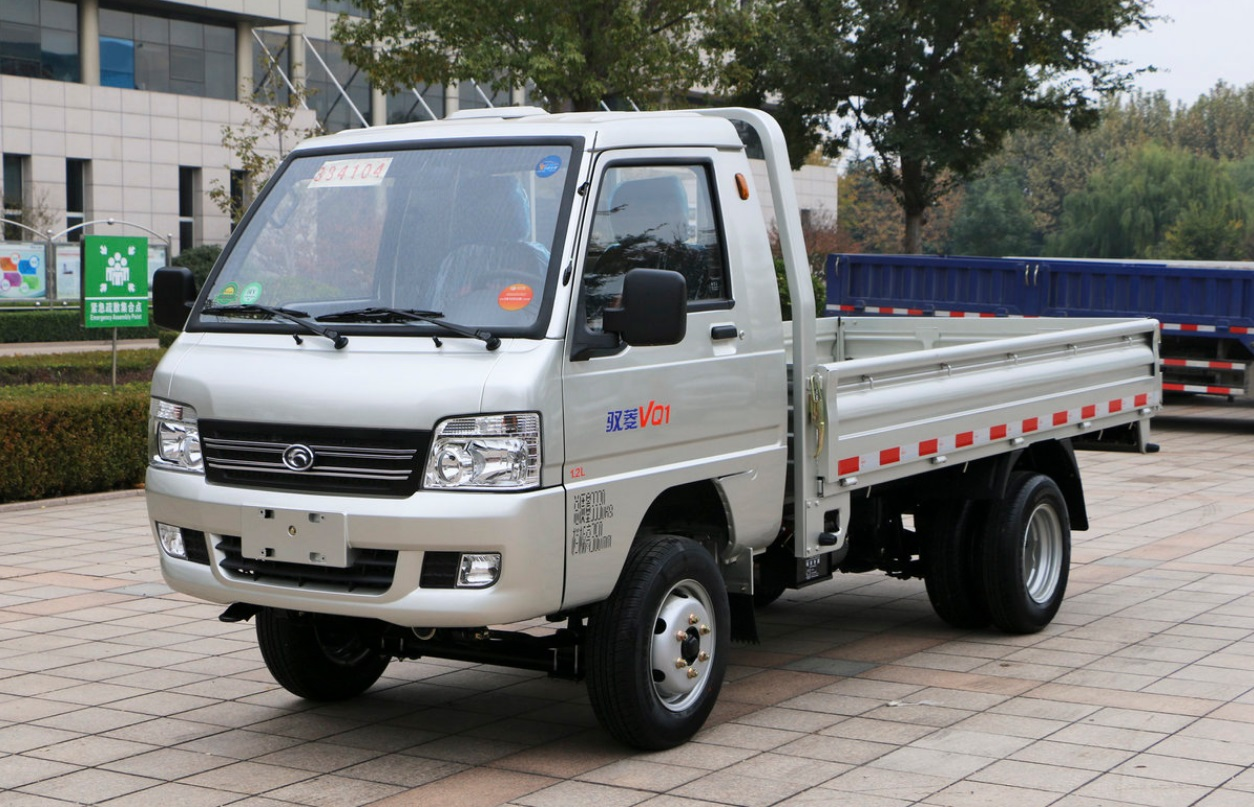truck: (140, 99, 1175, 780)
